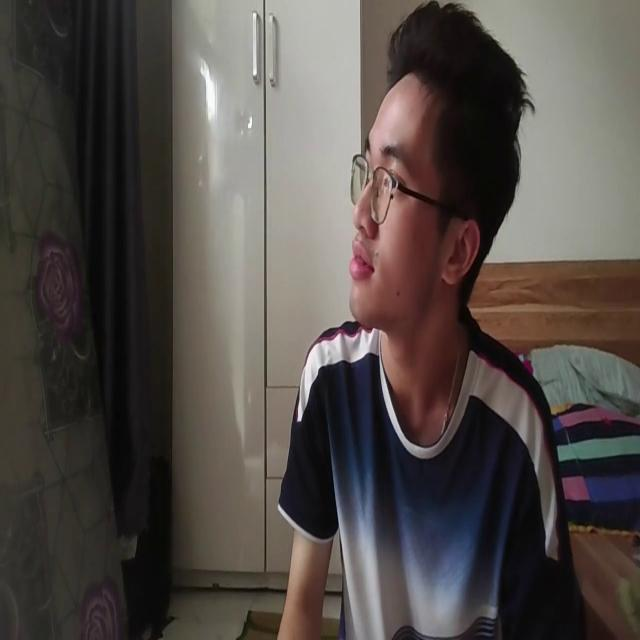student: (279, 0, 581, 640)
